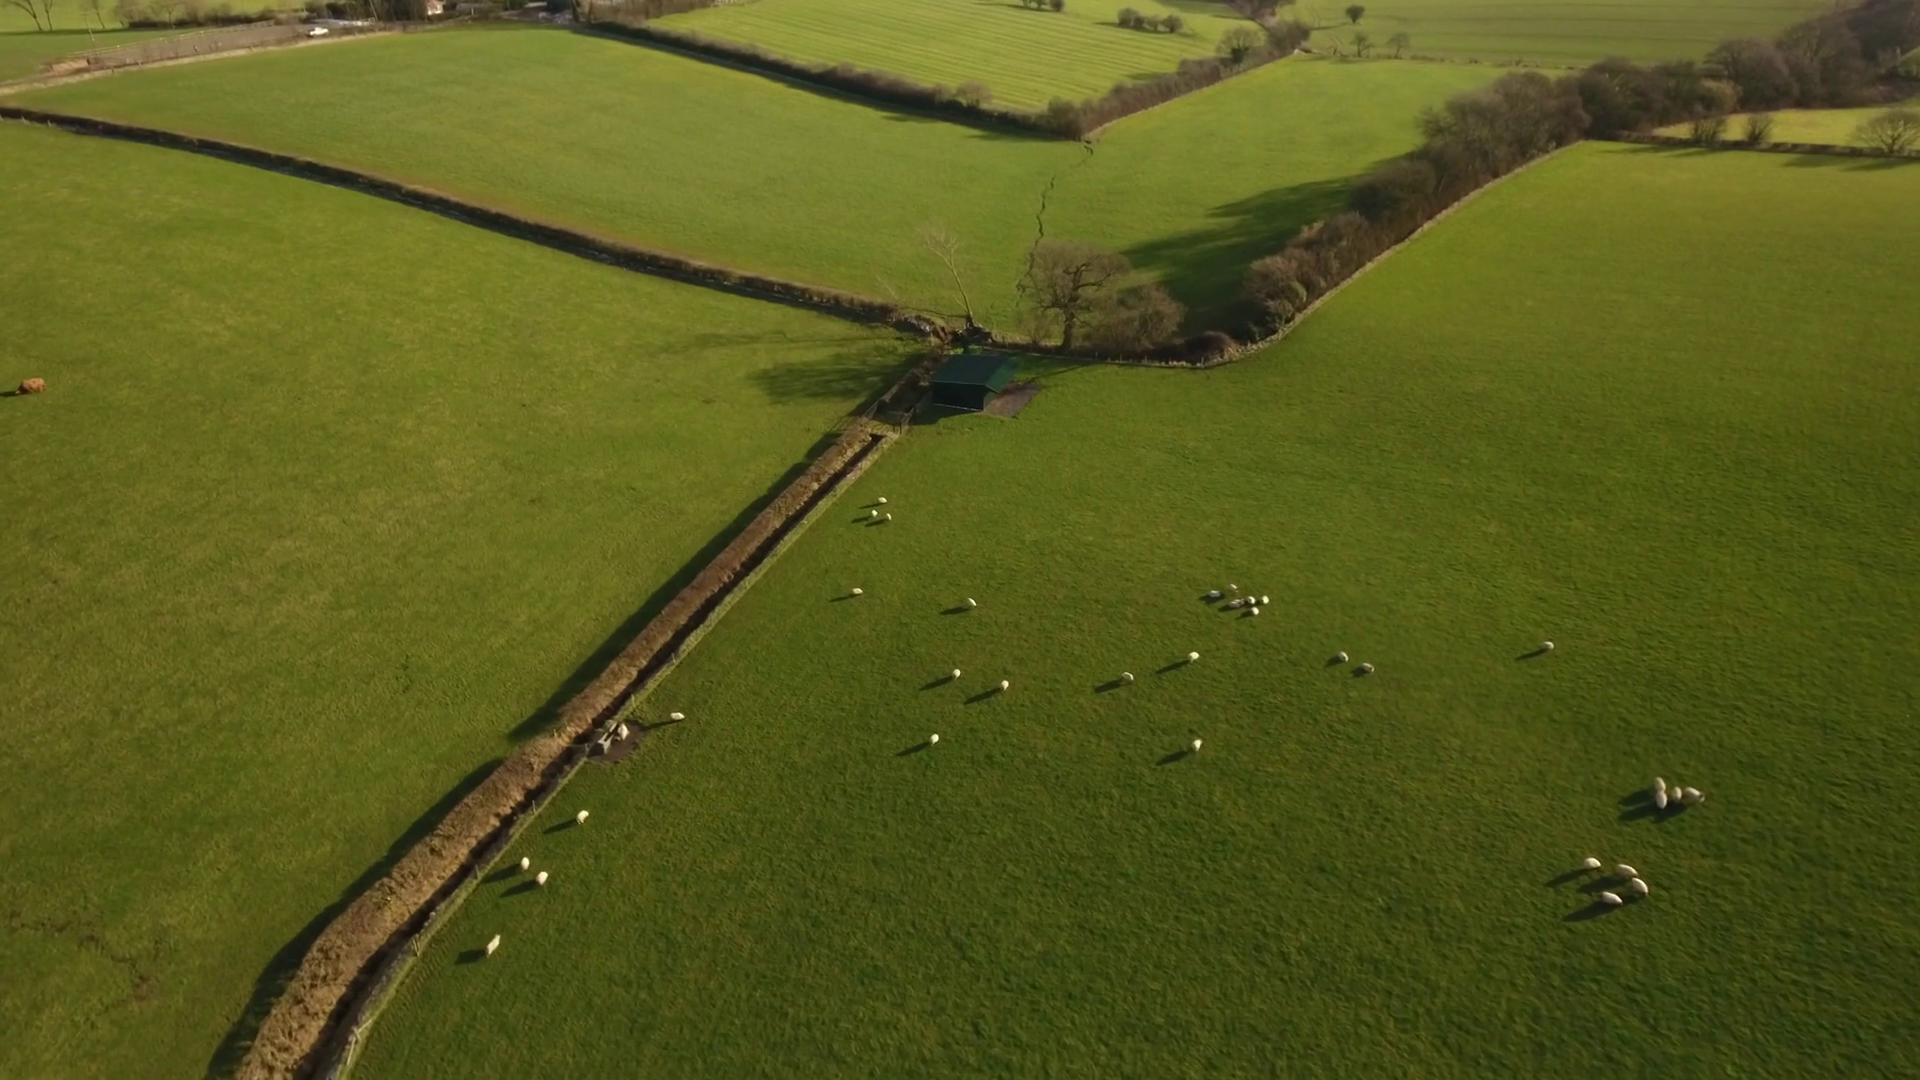sheep: (483, 932, 504, 957), (1615, 862, 1640, 878), (1683, 789, 1704, 807), (1602, 891, 1625, 907), (1633, 877, 1650, 897), (1581, 856, 1604, 869), (1655, 791, 1668, 808), (535, 869, 549, 885), (574, 808, 589, 822), (1189, 737, 1203, 753), (1669, 785, 1681, 802), (928, 732, 942, 746), (1361, 659, 1375, 673), (520, 855, 531, 870), (1120, 673, 1135, 683), (670, 712, 684, 723), (1338, 650, 1350, 661), (1543, 641, 1555, 651), (1655, 773, 1663, 789), (1187, 651, 1200, 661), (967, 596, 977, 607), (952, 666, 961, 676), (851, 585, 862, 593), (1002, 679, 1007, 688)
